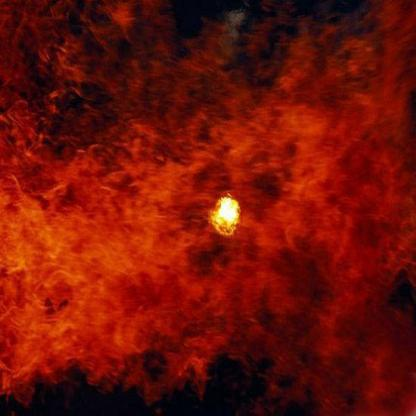fire: (0, 51, 412, 414)
